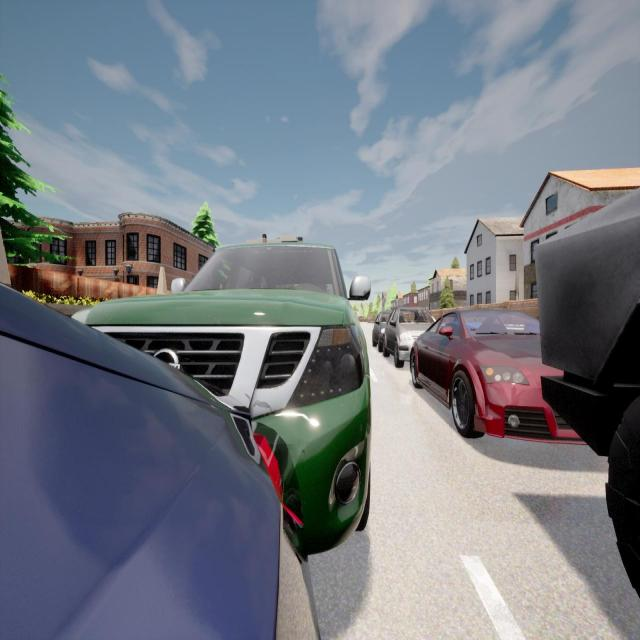Vehicle: (1, 283, 320, 640), (70, 234, 372, 554), (530, 191, 640, 597), (408, 307, 598, 443), (384, 306, 445, 367), (371, 308, 392, 345)
